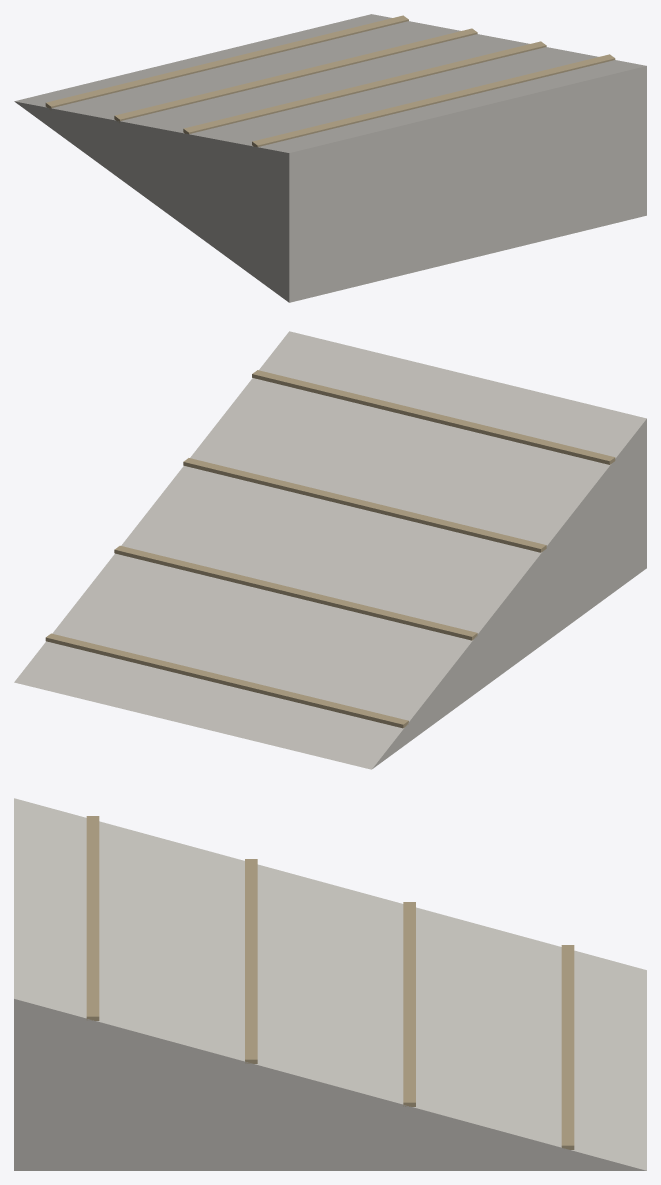
The model's file is SM_GrandRamp.fbx.
3 views of the same model, one above another, from view 1: azimuth 30°, elevation 25°; view 2: azimuth 150°, elevation 25°; view 3: azimuth 270°, elevation 25° (orthographic). The views are drawn at different scales.
Visible parts, largest first — view 1: SM_GrandRamp; view 2: SM_GrandRamp; view 3: SM_GrandRamp.
Boxes of the visible parts, x1=… form: SM_GrandRamp: x1=14, y1=14, x2=646, y2=302; SM_GrandRamp: x1=14, y1=331, x2=646, y2=769; SM_GrandRamp: x1=14, y1=798, x2=646, y2=1170.
Size of the model in its own units: 3 by 4 by 1.2.
